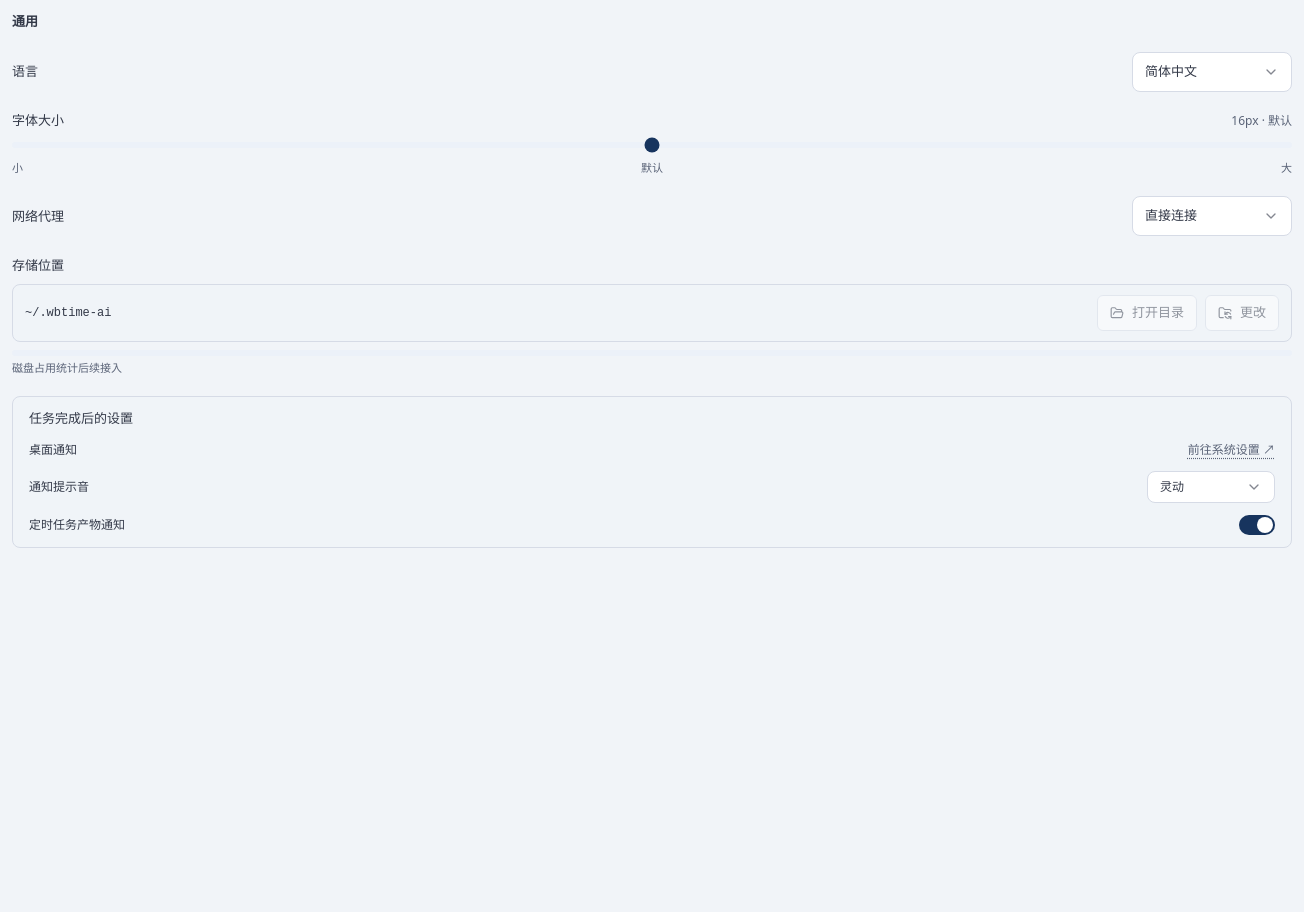
Test: GeneralSection · 通知提示音自定义（B-05） › 下拉含「自定义」；选中后出现导入行（未选文件时提示空态）
This screenshot has width=1304, height=912.
Press ArrowDown in the dropdown with test id "settings-notification-sound", box [1147,470,1275,502]
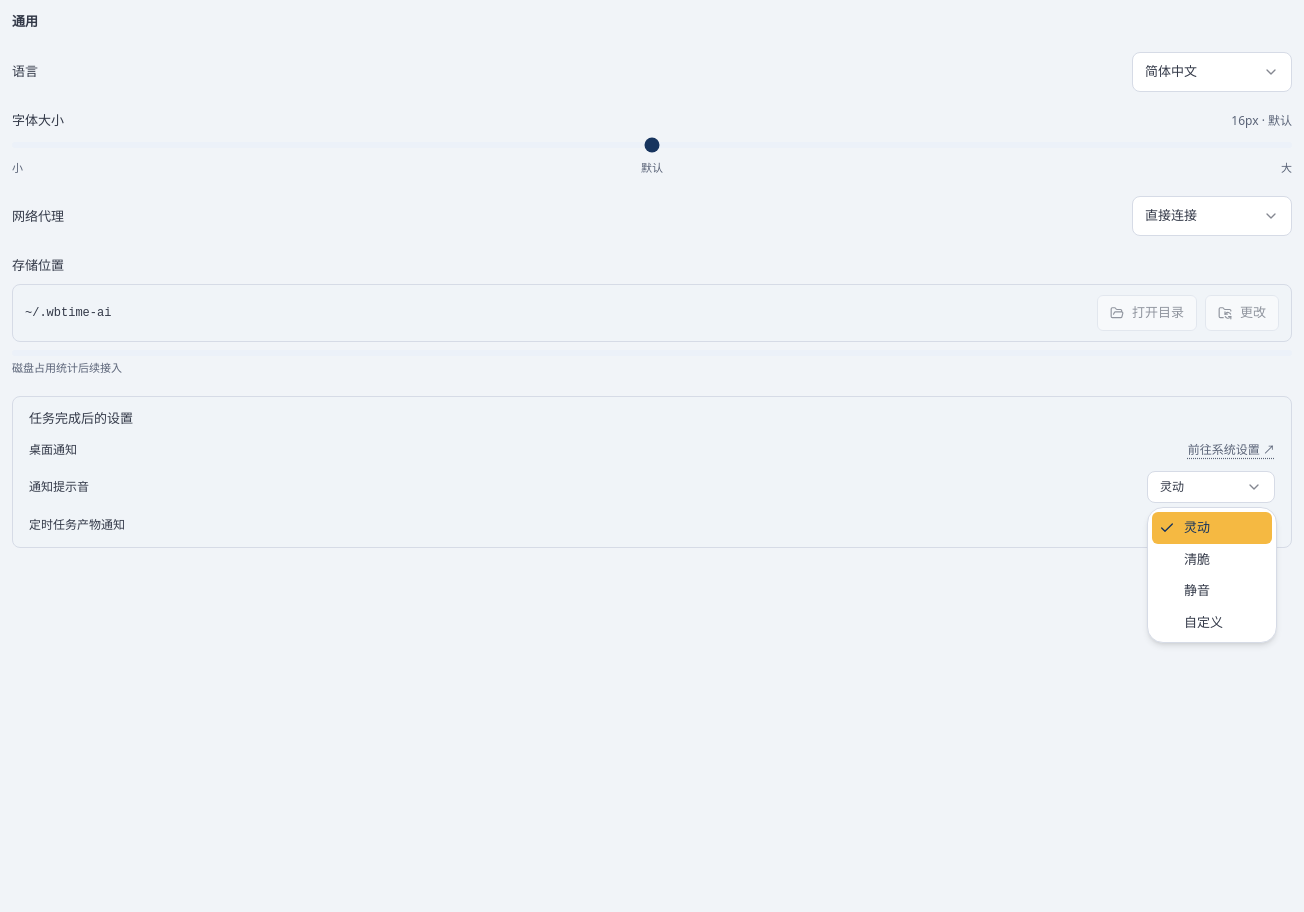
Click the option "自定义" at (1204, 622), box [1184,612,1223,630]
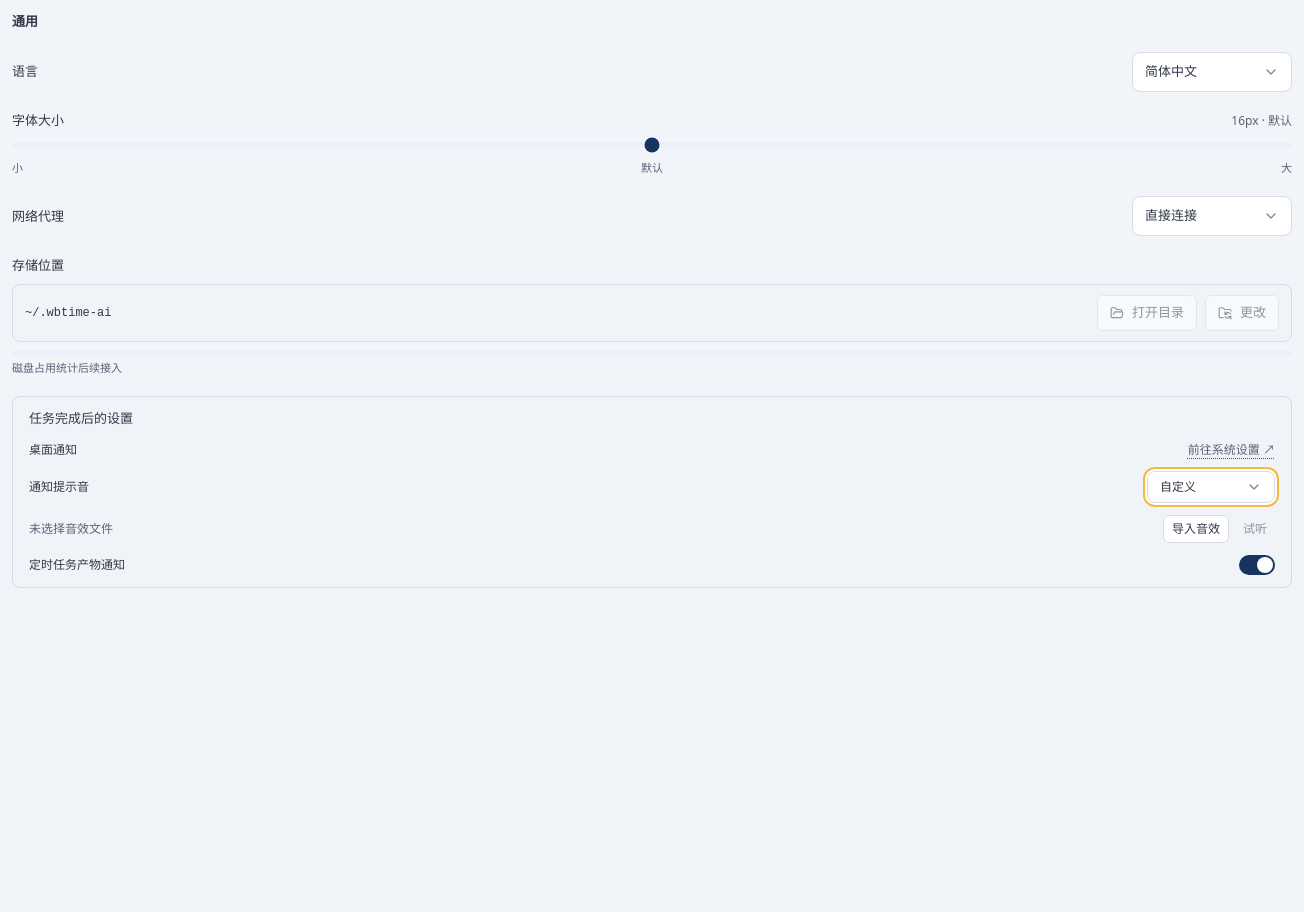
Result: the element with test id "settings-notification-sound-custom" is shown at [29,514,1275,542]
Result: the text with test id "settings-notification-sound-custom-name" reads "未选择音效文件" at [29,520,113,536]
Result: the button with test id "settings-notification-sound-custom-preview" is disabled at [1235,514,1275,542]
